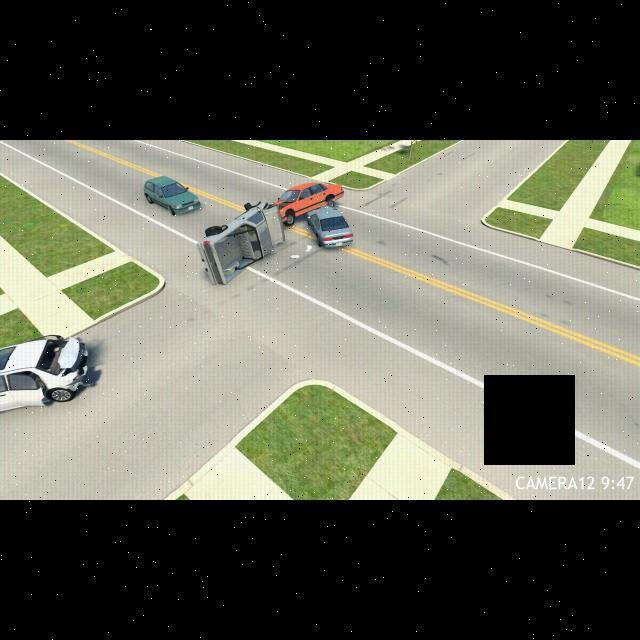multiple_accident: (203, 190, 400, 276)
normal: (143, 173, 210, 213)
single accident: (1, 330, 126, 400)
